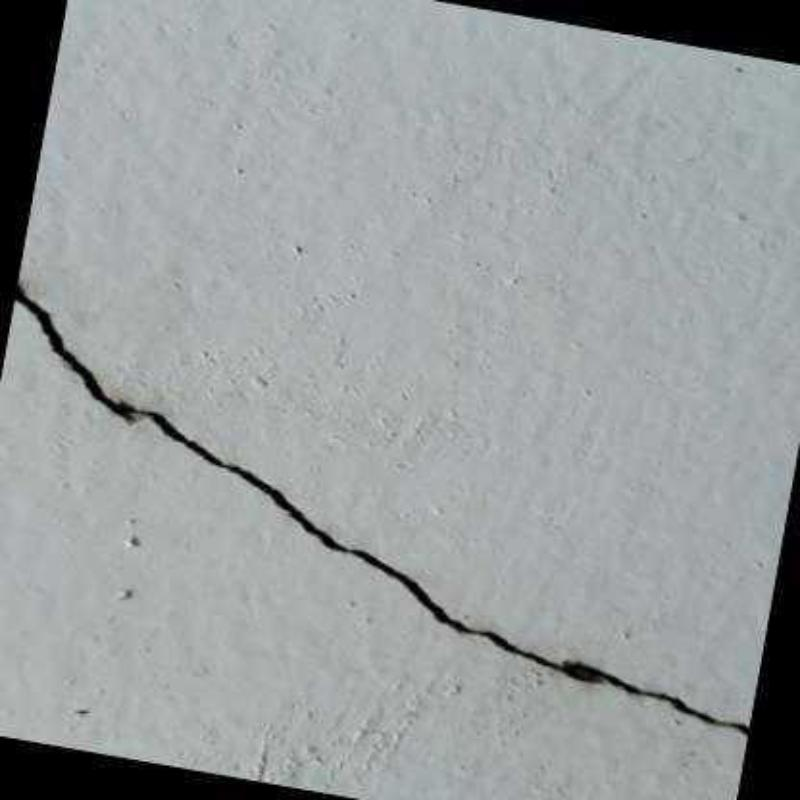pothole: (14, 283, 752, 739)
